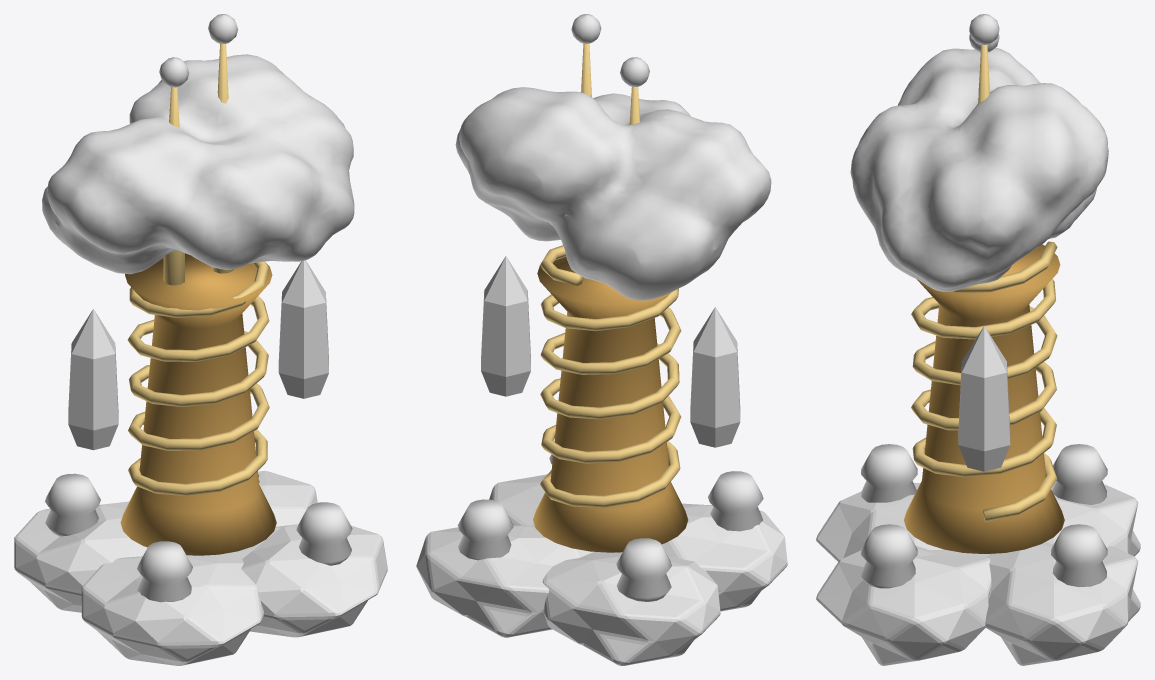
Rendered from thunder-2.fbx.
3 renders of one model, left to right at view 1: azimuth 30°, elevation 25°; view 2: azimuth 150°, elevation 25°; view 3: azimuth 270°, elevation 25°, orthographic. The views are drawn at different scales.
Parts seen in each view (by area): view 1: ContinuousStormCloud, Turret_Metal, Base_Stone, Turret_Glow, Base_Organic; view 2: ContinuousStormCloud, Turret_Metal, Base_Stone, Turret_Glow, Base_Organic; view 3: ContinuousStormCloud, Base_Stone, Turret_Metal, Base_Organic, Turret_Glow.
Boxes of the visible parts, x1,y1,x2,y2 form: ContinuousStormCloud: [42, 54, 354, 274]; Turret_Metal: [120, 44, 276, 555]; Base_Stone: [14, 470, 387, 665]; Turret_Glow: [68, 14, 328, 450]; Base_Organic: [45, 473, 352, 602]; ContinuousStormCloud: [455, 87, 771, 300]; Turret_Metal: [533, 43, 688, 552]; Base_Stone: [416, 474, 787, 665]; Turret_Glow: [481, 14, 740, 447]; Base_Organic: [457, 454, 763, 601]; ContinuousStormCloud: [850, 48, 1108, 291]; Base_Stone: [816, 482, 1140, 665]; Turret_Metal: [904, 44, 1064, 553]; Base_Organic: [861, 444, 1107, 588]; Turret_Glow: [958, 14, 1010, 471].
Bounding box in the file's own units: 78.43 × 151 × 72.59.
